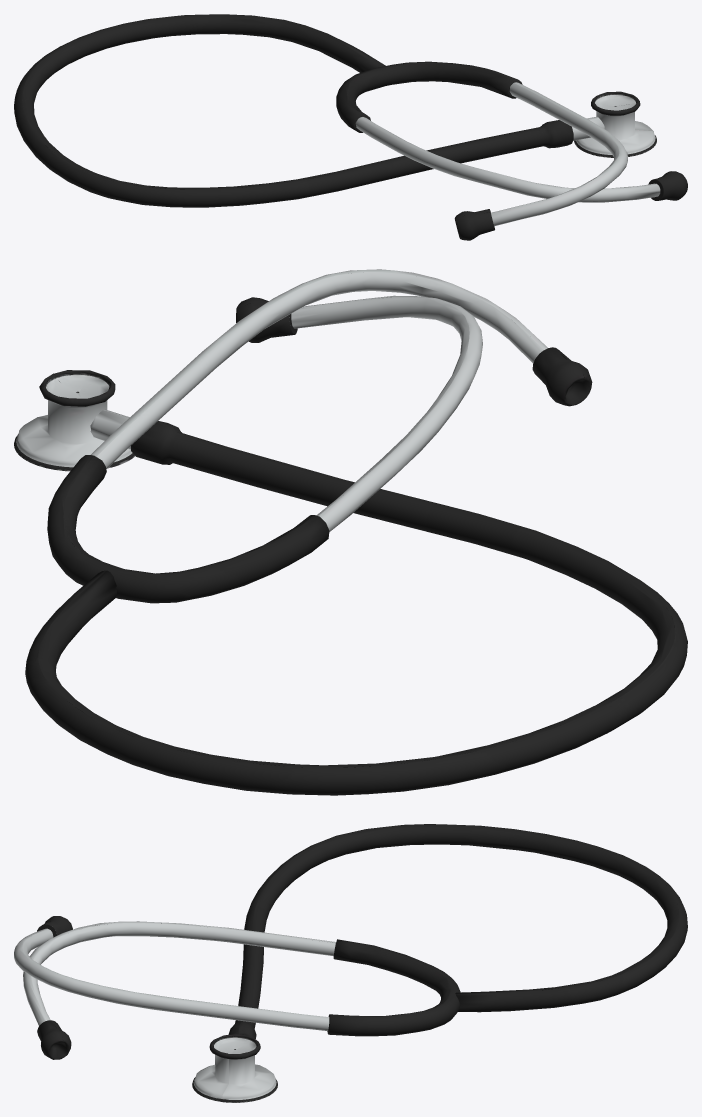
File: stethoscope.glb
The picture shows the model from 3 angles, top to bottom: view 1: azimuth 30°, elevation 25°; view 2: azimuth 150°, elevation 25°; view 3: azimuth 270°, elevation 25°; orthographic projection. The views are drawn at different scales.
Parts seen in each view (by area): view 1: Stethoscope_lambert1_0; view 2: Stethoscope_lambert1_0; view 3: Stethoscope_lambert1_0.
Boxes of the visible parts, left/top/right/bottom form: Stethoscope_lambert1_0: left=14, top=14, right=687, bottom=240; Stethoscope_lambert1_0: left=14, top=269, right=687, bottom=795; Stethoscope_lambert1_0: left=14, top=824, right=687, bottom=1102.
Size of the model in its own units: 4.36 by 0.5641 by 4.88.
1 material, 1 textured.
